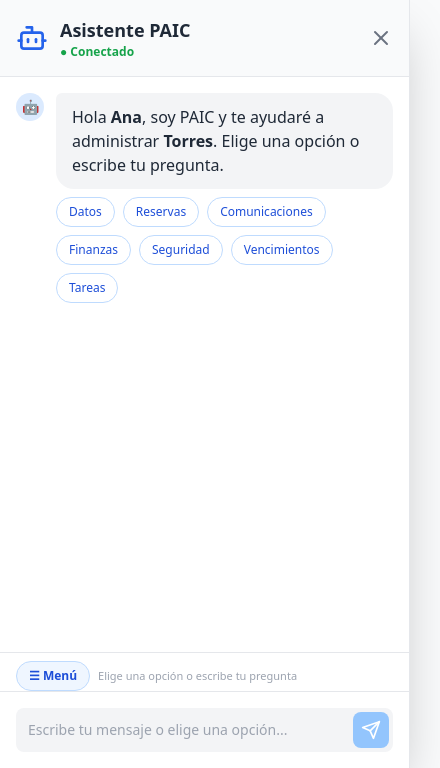
Scenario: Chatbot › navigates from Datos to entity chips and then to action chips
Click the button "Datos".
click(85, 212)  # box [56,197,115,227]
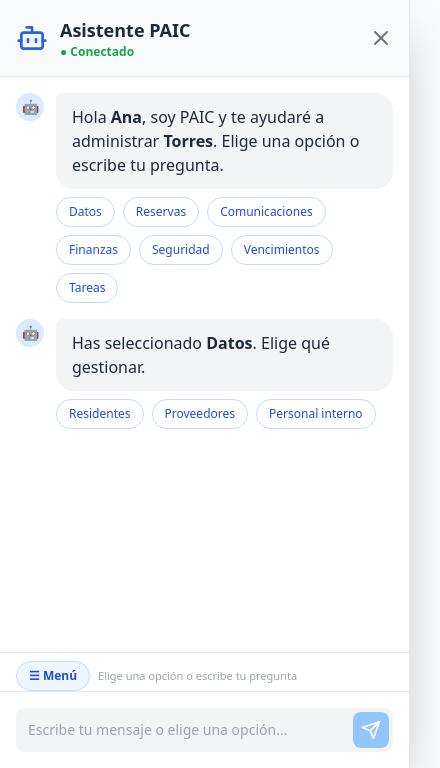
expect the button "Residentes" is shown: met
Click the button "Residentes".
click(100, 414)  # box [56,399,144,429]
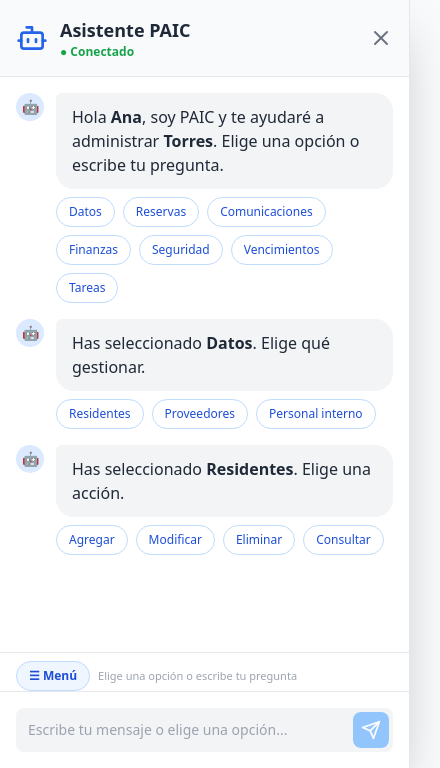
expect the button "Agregar" is shown: met, box [56,525,128,555]
expect the button "Modificar" is shown: met, box [136,525,215,555]
expect the button "Eliminar" is shown: met, box [223,525,295,555]
